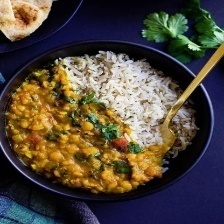roti: (0, 0, 56, 48)
